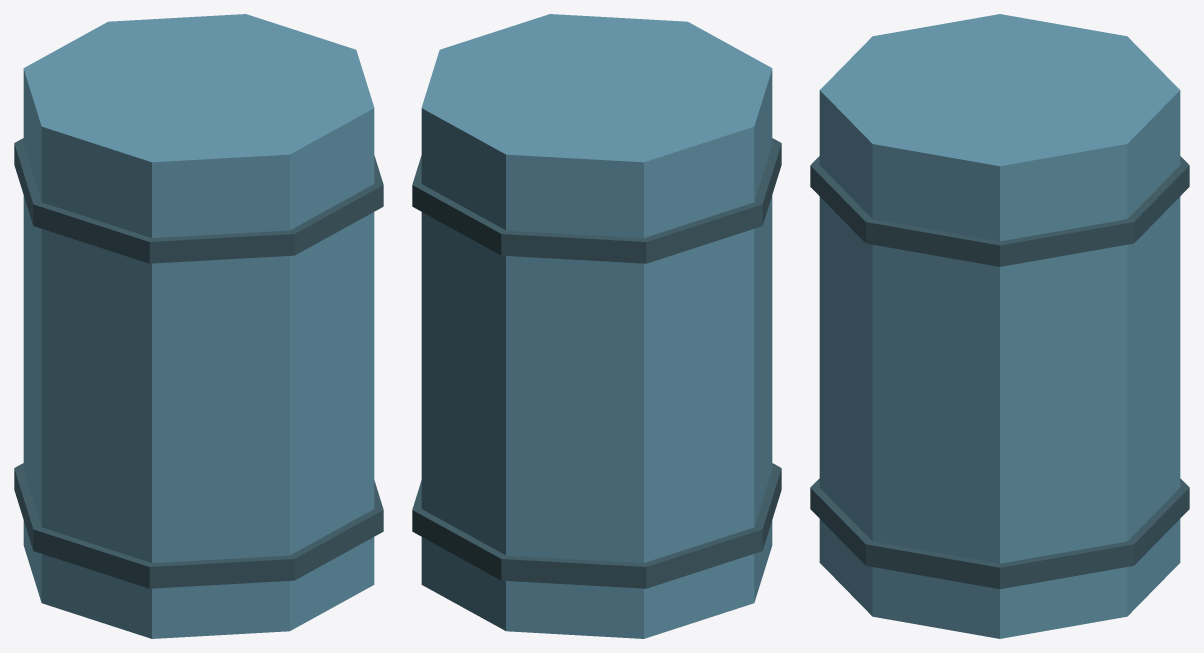
Rendered from oilDrum.obj.
3 renders of one model, left to right at view 1: azimuth 30°, elevation 25°; view 2: azimuth 150°, elevation 25°; view 3: azimuth 270°, elevation 25°, orthographic.
Parts seen in each view (by area): view 1: oilDrum; view 2: oilDrum; view 3: oilDrum.
Part boxes in pixels (box(x1,y1,x2,y2)): oilDrum: box(14, 14, 383, 638); oilDrum: box(412, 14, 781, 638); oilDrum: box(810, 14, 1189, 638).
Bounding box in the file's own units: 0.8 × 1.1 × 0.8.
